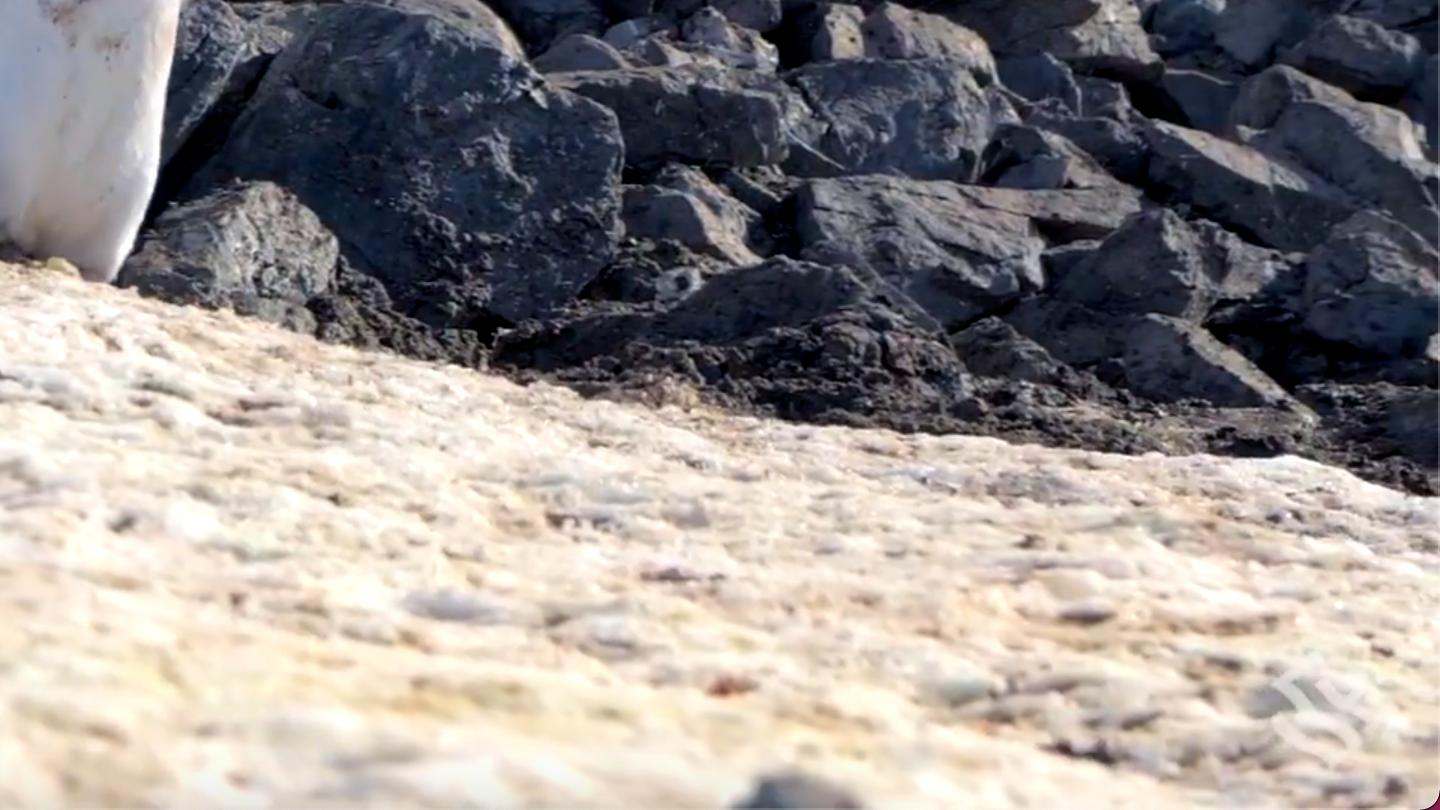Chinstrap Penguin: (0, 0, 232, 264)
